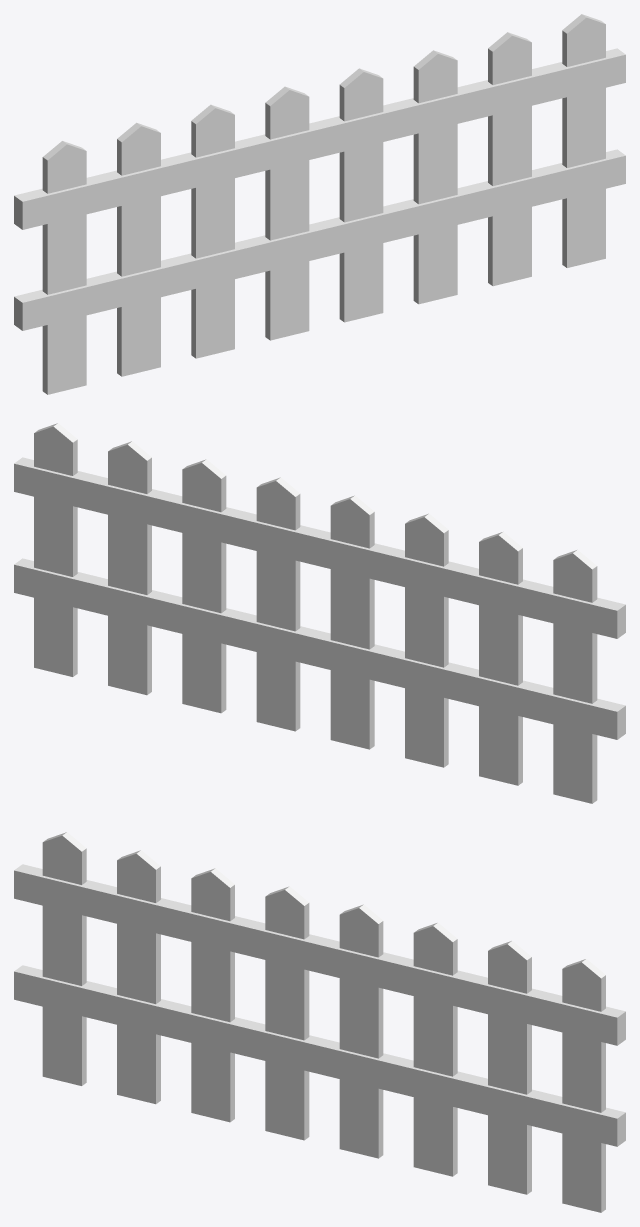
File: fance.glb
3 views of the same model, one above another, from view 1: azimuth 30°, elevation 25°; view 2: azimuth 150°, elevation 25°; view 3: azimuth 330°, elevation 25° (orthographic).
Visible parts, largest first — view 1: Cube; view 2: Cube; view 3: Cube.
Part boxes in pixels (<box>): Cube: <box>14,14,625,394</box>; Cube: <box>14,423,625,803</box>; Cube: <box>14,832,625,1212</box>.
Bounding box in the file's own units: 10.2 × 3.97 × 0.2516.
1 material, 1 textured.
